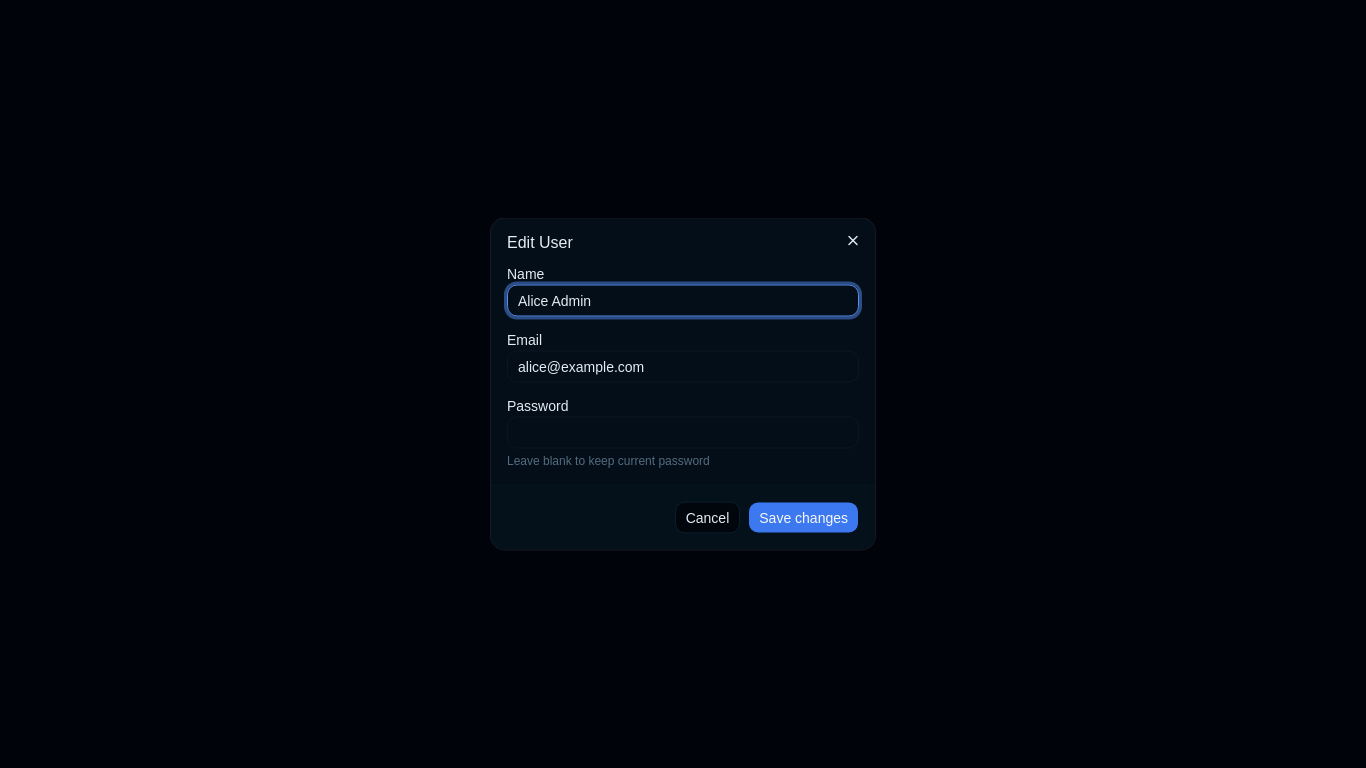
Test: EditUserModal › submission › shows a server error and keeps the modal open on failure
Click the button "Save changes".
click(804, 518)  # box [748, 502, 859, 534]
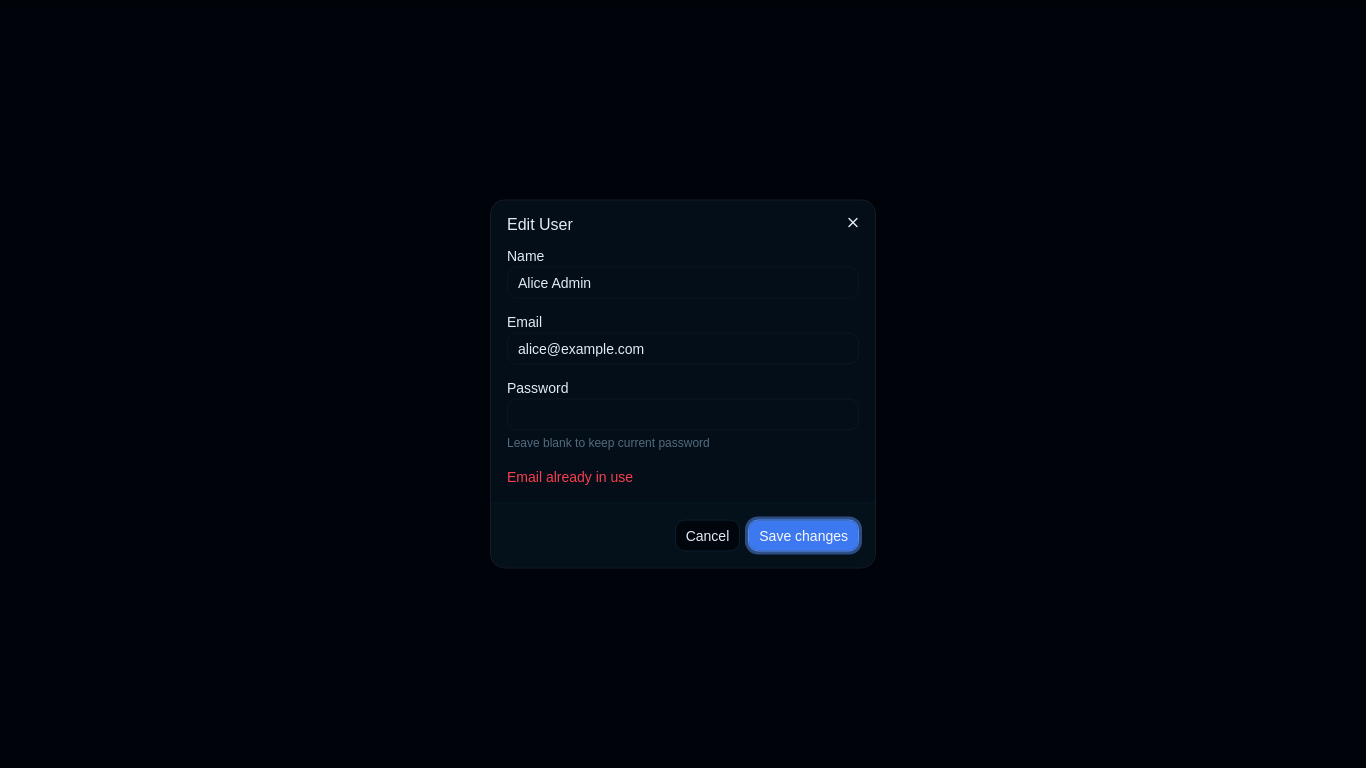
Now the text "Email already in use" is shown, box [507, 468, 633, 484]
